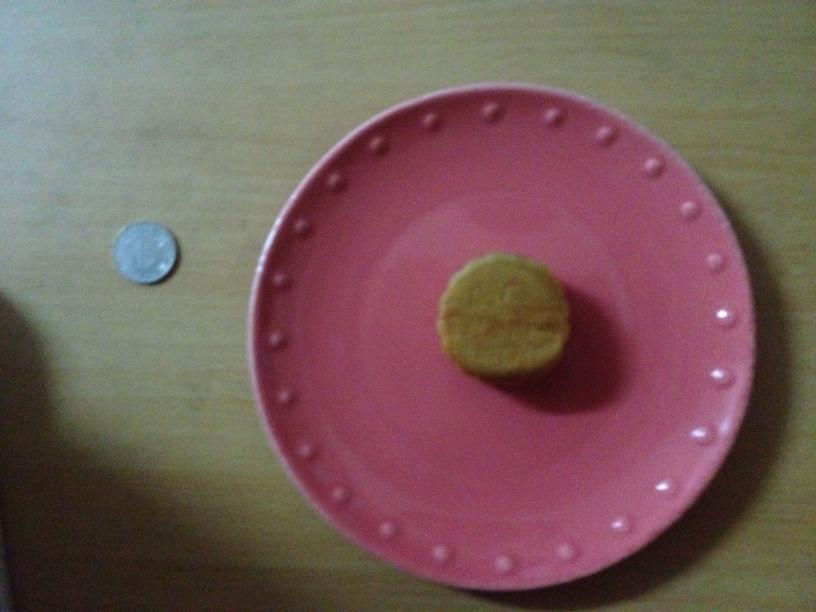coin: (110, 222, 177, 285)
mooncake: (433, 250, 571, 378)
